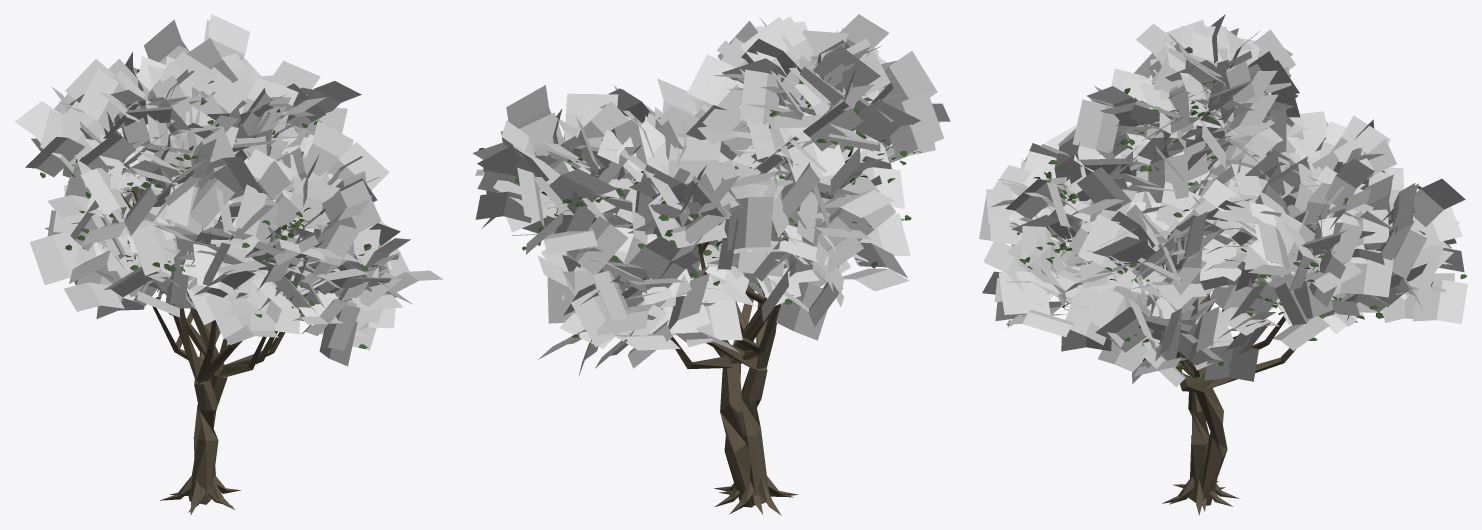
Rendered from CheneVert_Bifurque_LOD1.fbx.
3 renders of one model, left to right at view 1: azimuth 30°, elevation 25°; view 2: azimuth 150°, elevation 25°; view 3: azimuth 270°, elevation 25°, orthographic. The views are drawn at different scales.
Parts seen in each view (by area): view 1: CheneVert_Bifurque_LOD1; view 2: CheneVert_Bifurque_LOD1; view 3: CheneVert_Bifurque_LOD1.
Boxes of the visible parts, x1,y1,x2,y2 form: CheneVert_Bifurque_LOD1: [14, 14, 443, 515]; CheneVert_Bifurque_LOD1: [472, 14, 950, 515]; CheneVert_Bifurque_LOD1: [979, 14, 1467, 515].
Bounding box in the file's own units: 698 × 809 × 808.
